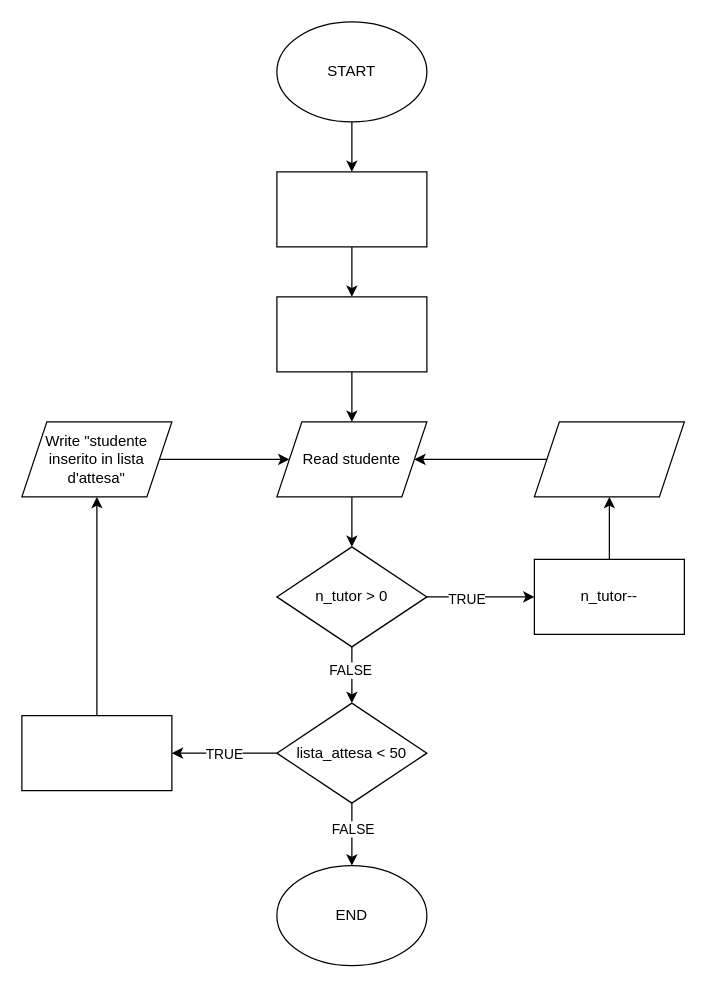
Some shapes in this 706 by 988 pixel diagram are drawn without their labels. Each missing label, with the box of its shape:
lista_attesa = 0: (276, 296, 427, 372)
lista_attesa++: (21, 714, 172, 791)
n_tutor = 10: (276, 171, 427, 247)
Write "tutor assegnato": (533, 421, 684, 497)
